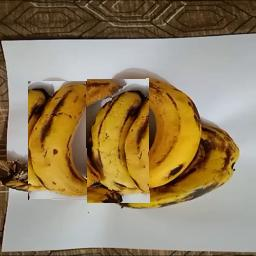Banana Semifresh: (113, 73, 204, 192), (29, 82, 113, 201), (87, 79, 150, 203)
